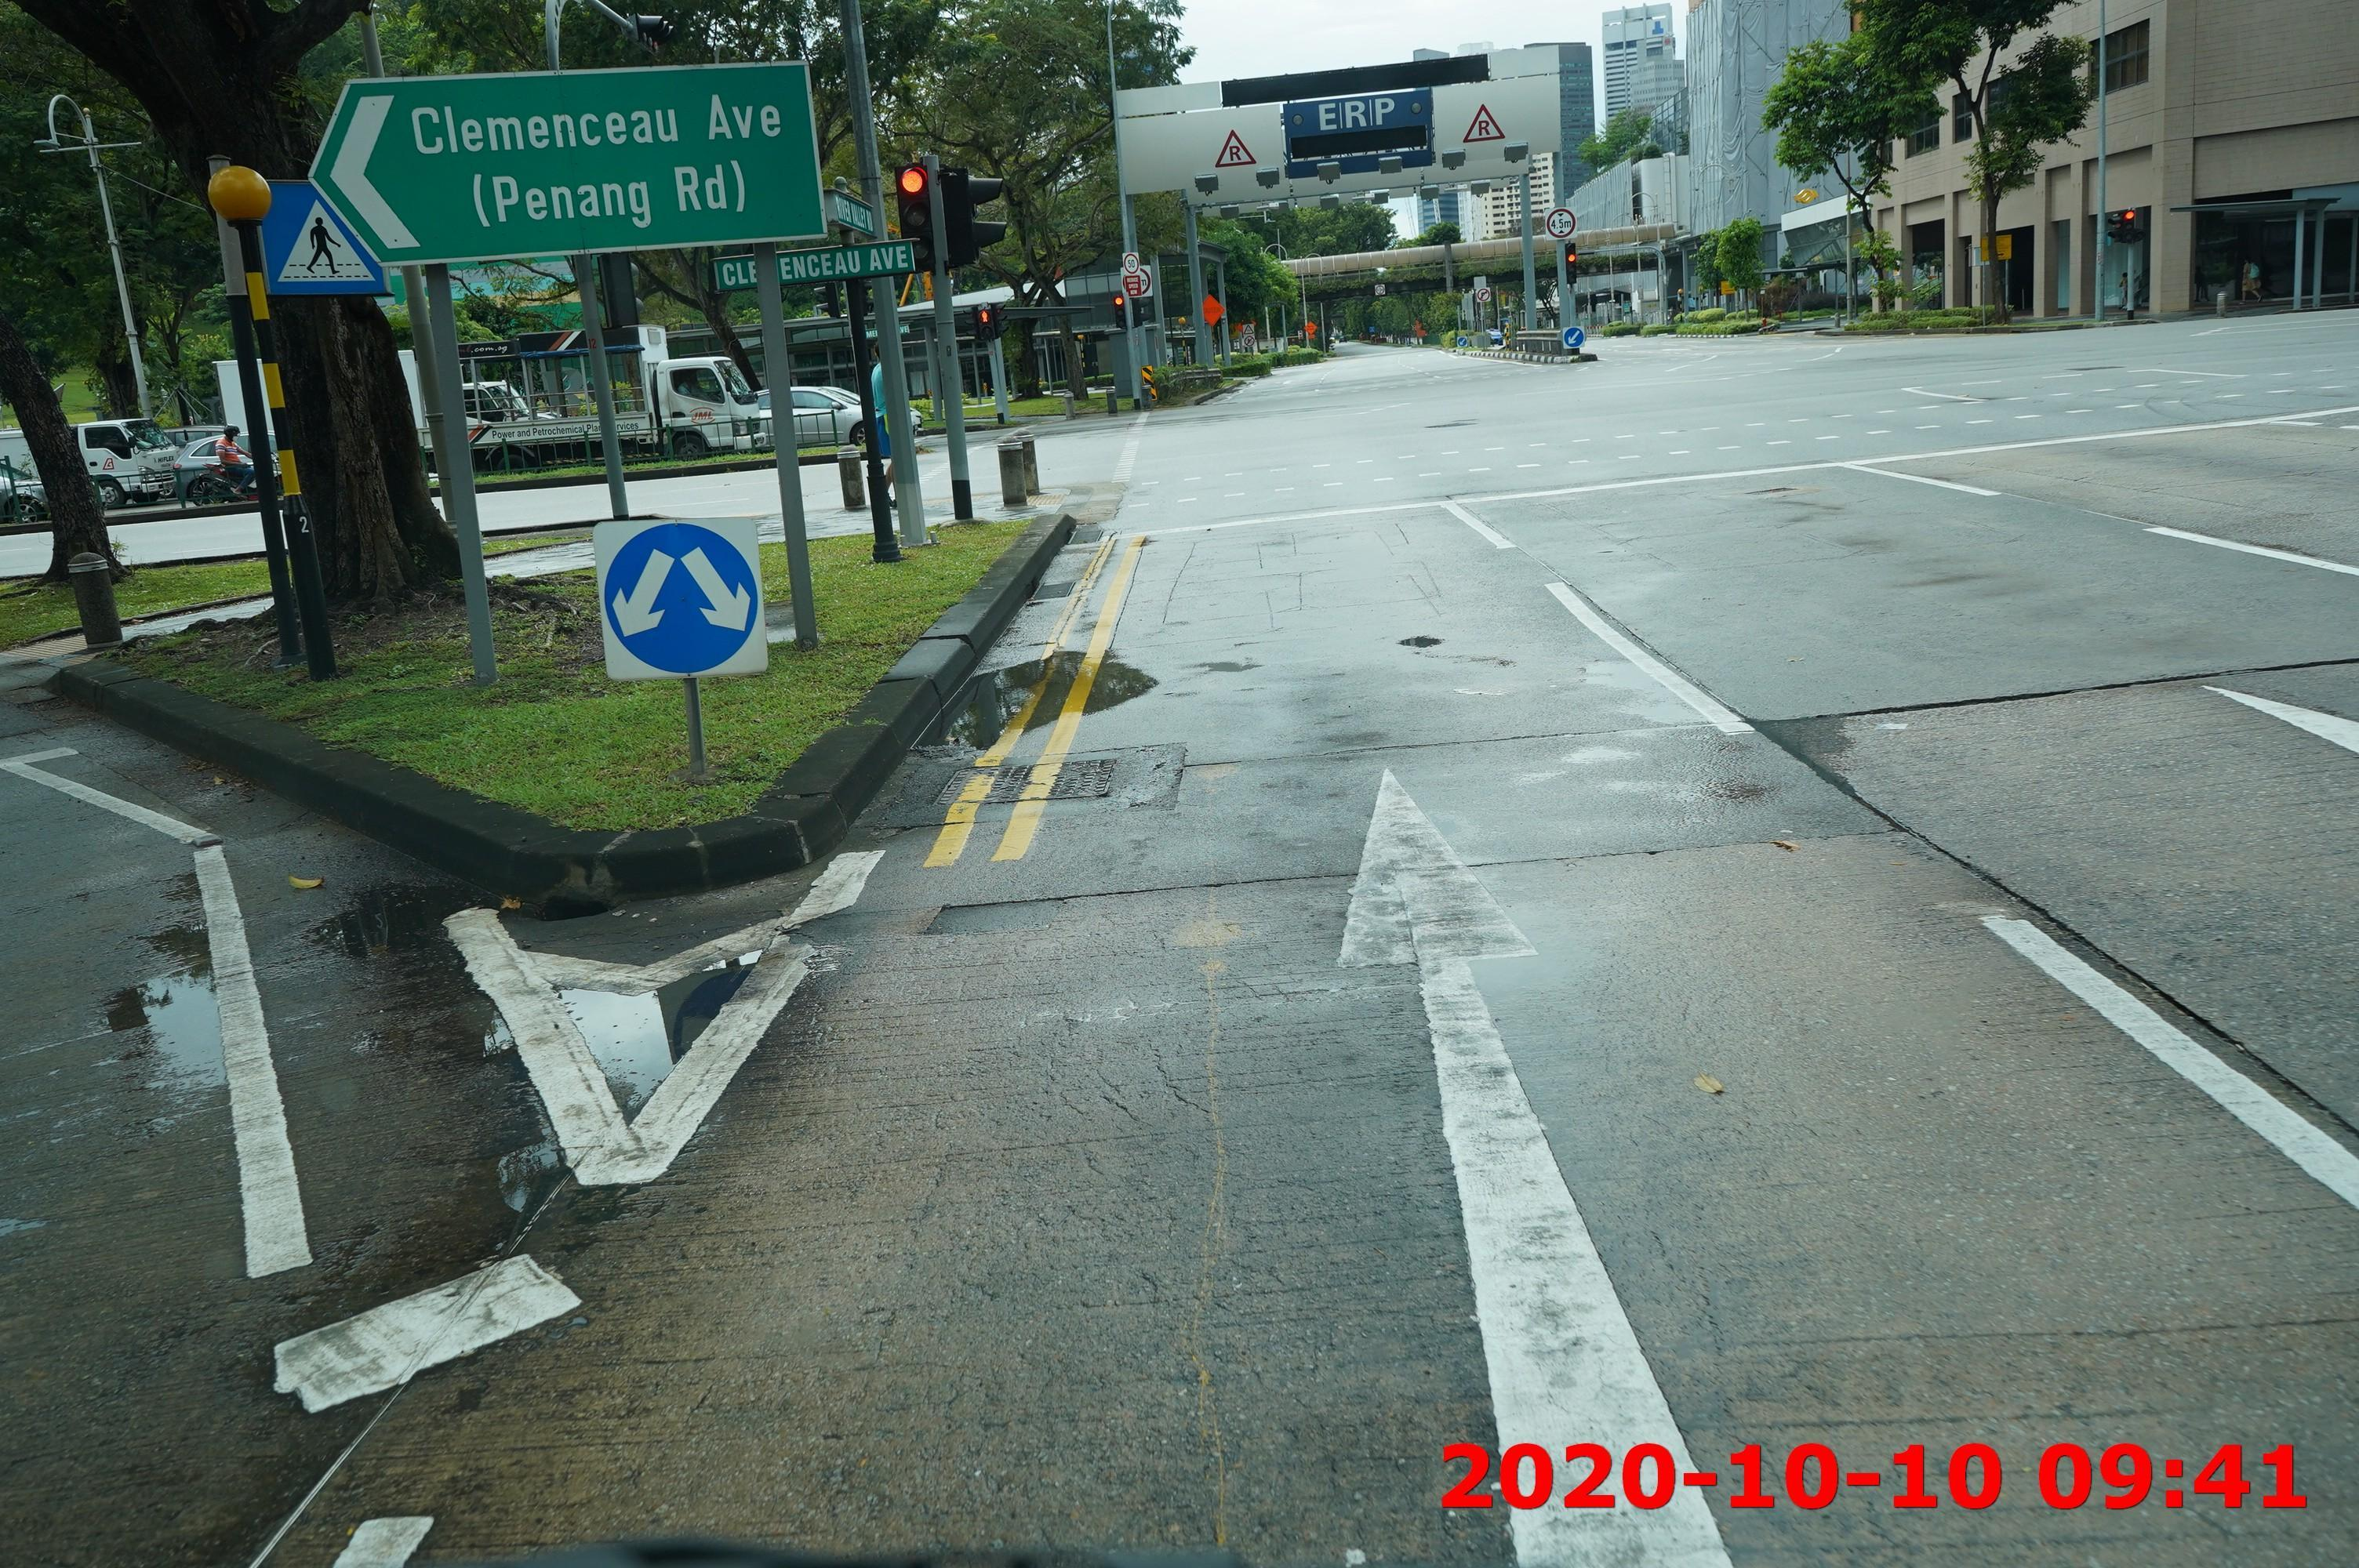peeling off premix: (1393, 625, 1451, 658)
